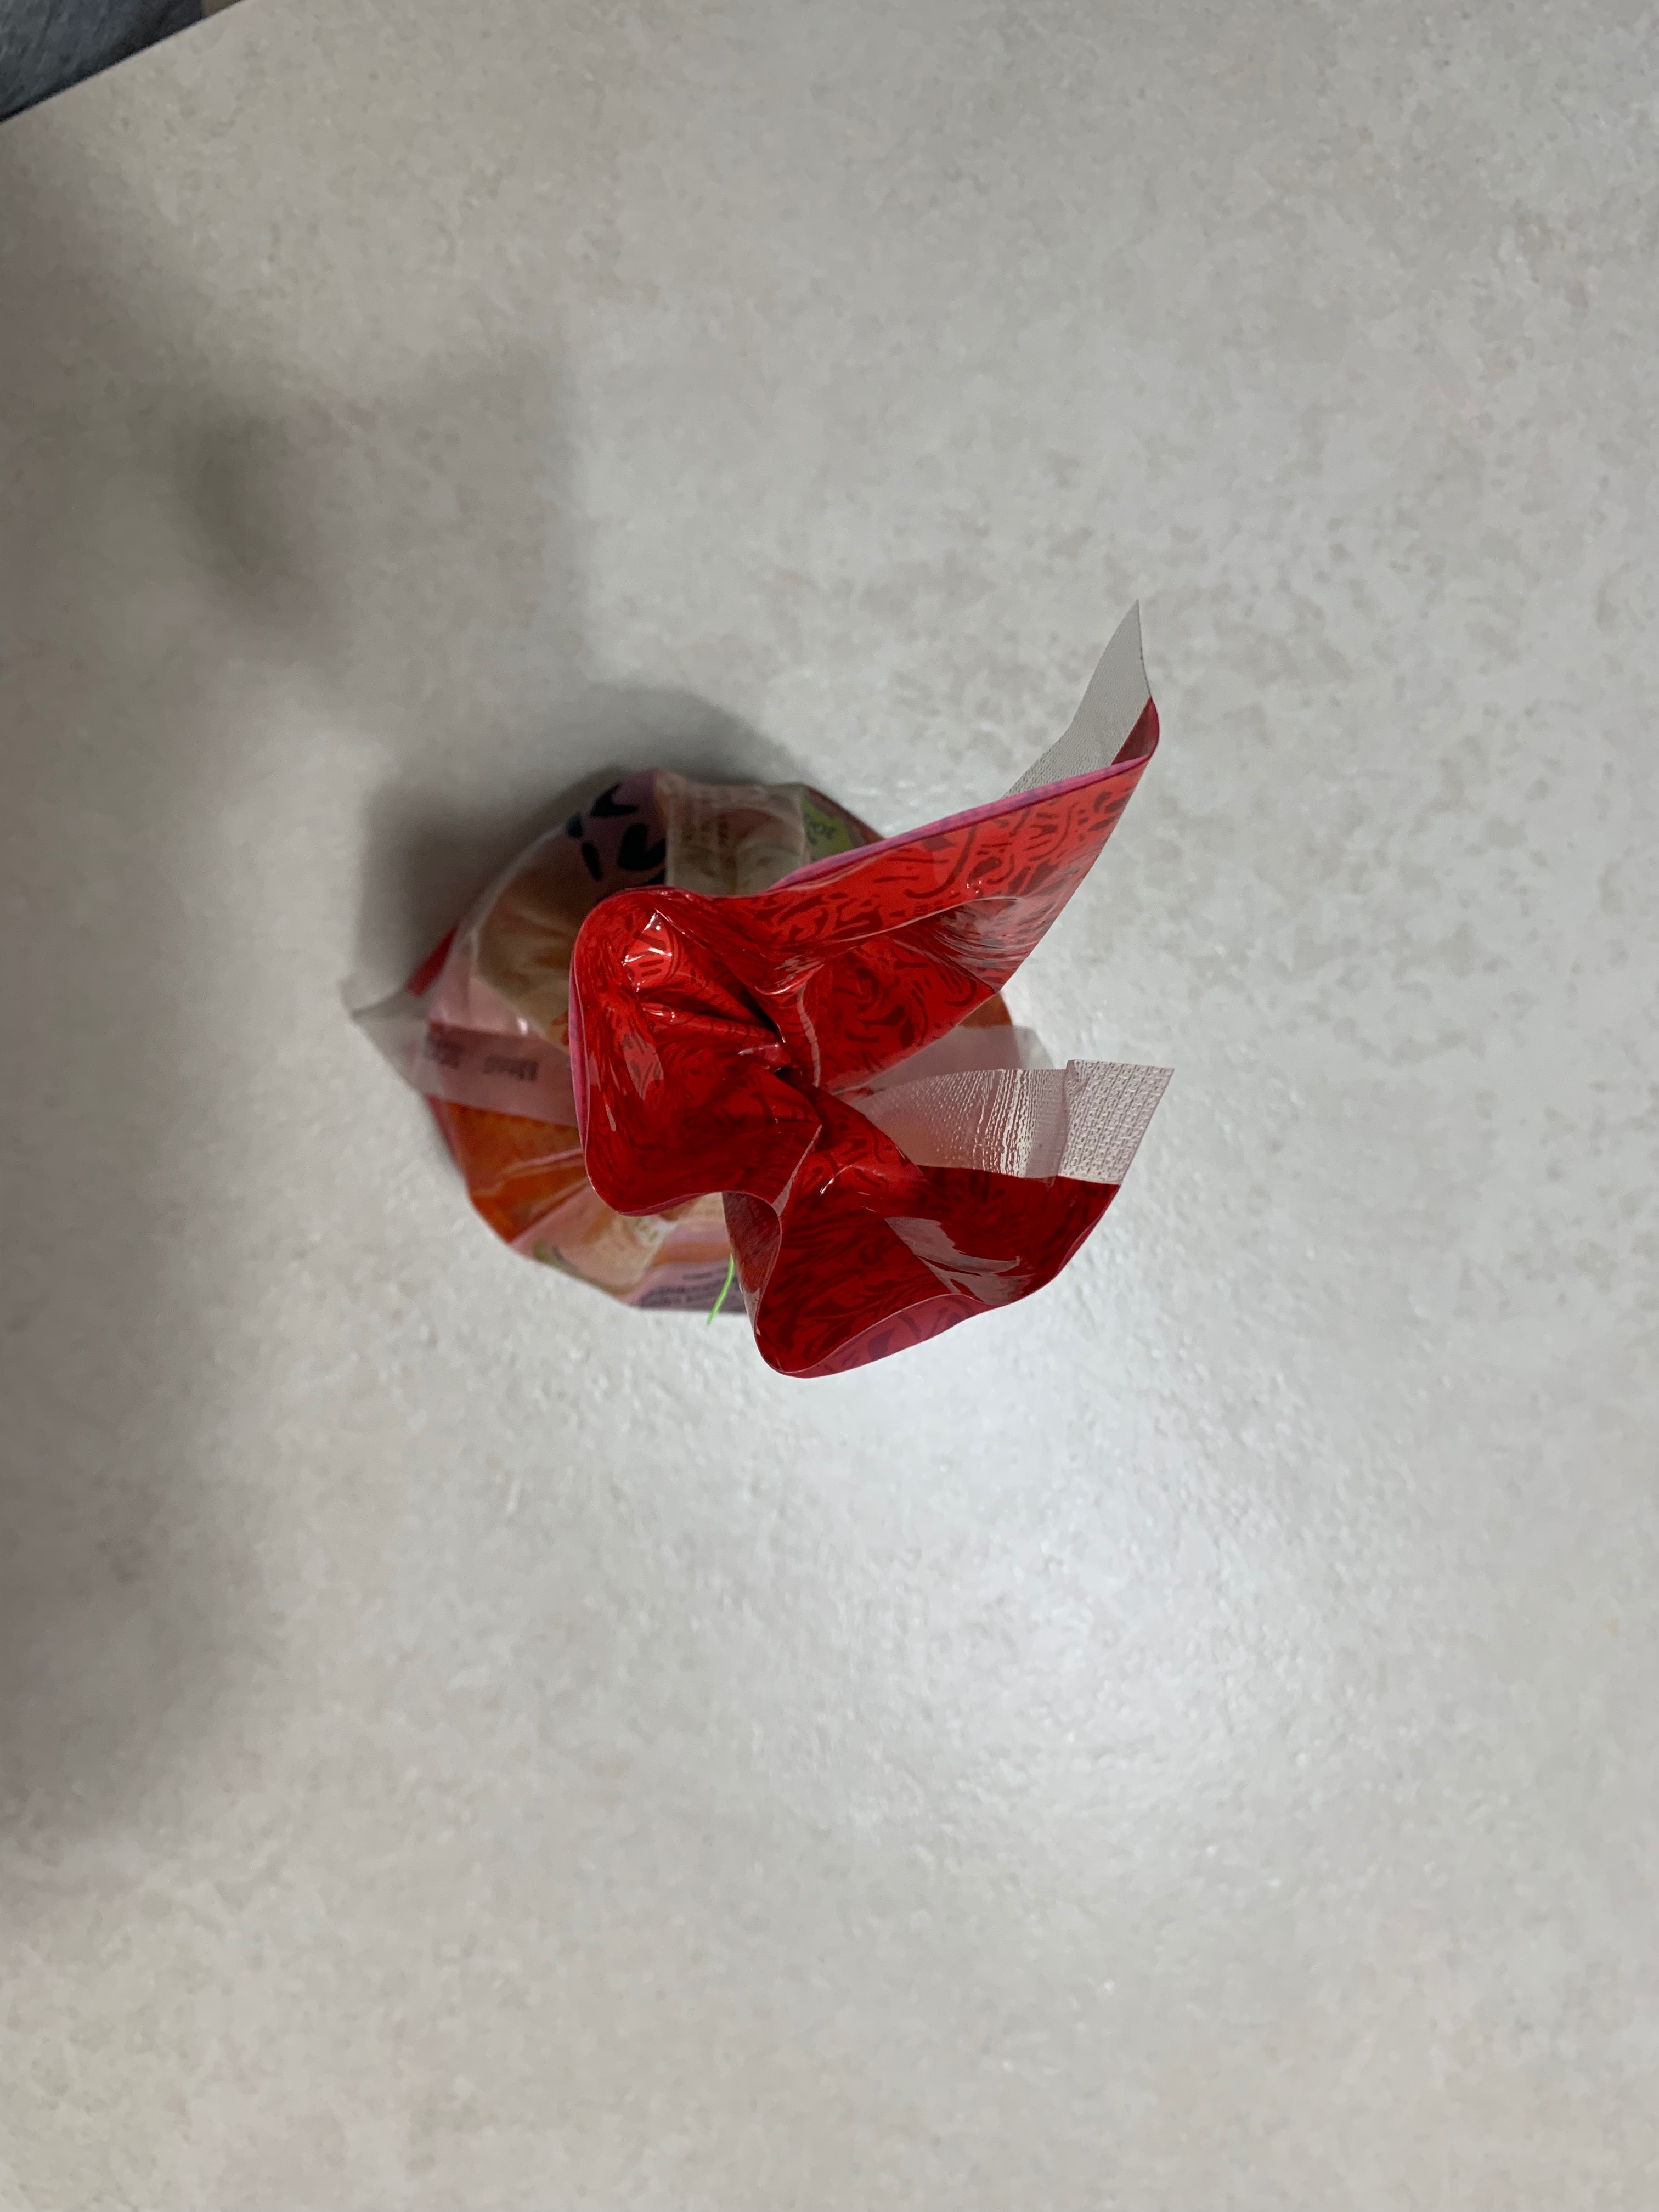kimchi: (352, 615, 1168, 1379)
